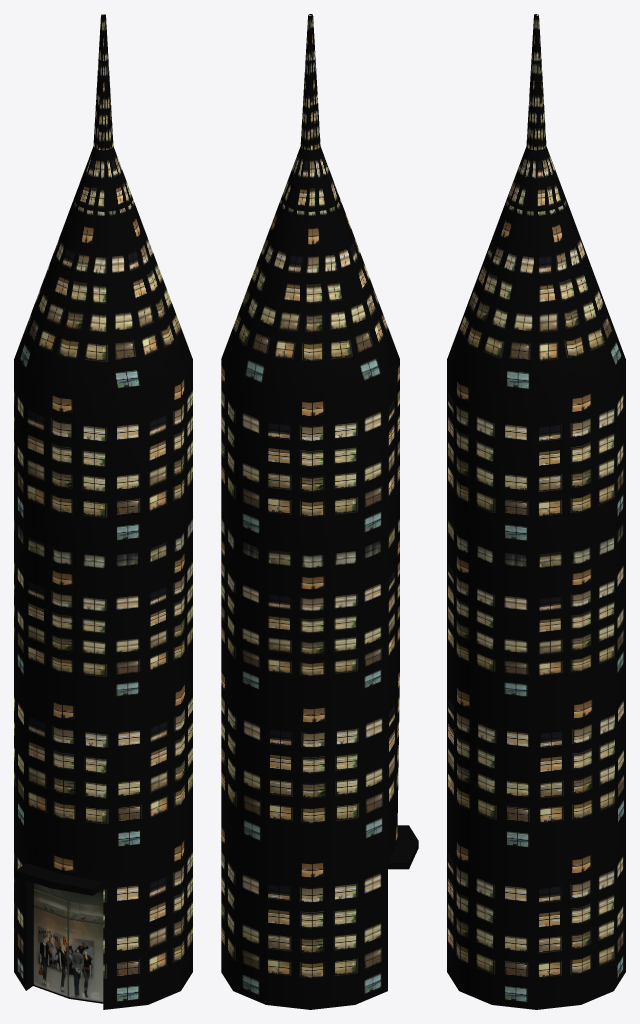
Rendered from building17.FBX.
3 renders of one model, left to right at view 1: azimuth 30°, elevation 25°; view 2: azimuth 150°, elevation 25°; view 3: azimuth 270°, elevation 25°, orthographic.
Parts seen in each view (by area): view 1: Cylinder001; view 2: Cylinder001; view 3: Cylinder001.
Boxes of the visible parts, box(x1,y1,x2,y2) form: Cylinder001: box(14, 14, 192, 1009); Cylinder001: box(221, 14, 418, 1009); Cylinder001: box(447, 14, 625, 1009).
Size of the model in its own units: 27.31 by 146 by 24.78.
